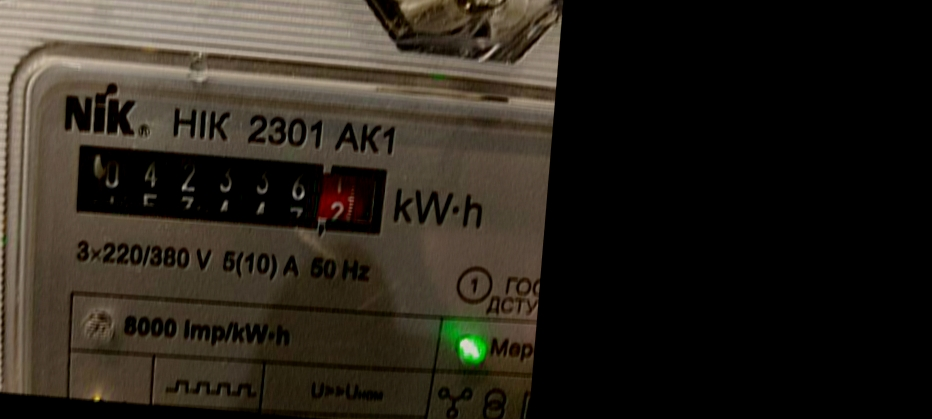0: (102, 157, 123, 191)
1: (332, 170, 346, 197)
2: (178, 159, 201, 195), (327, 200, 345, 223)
3: (215, 161, 235, 194), (254, 164, 273, 198)
4: (142, 156, 161, 189)
6: (288, 169, 311, 205)
screen: (61, 131, 402, 249)
